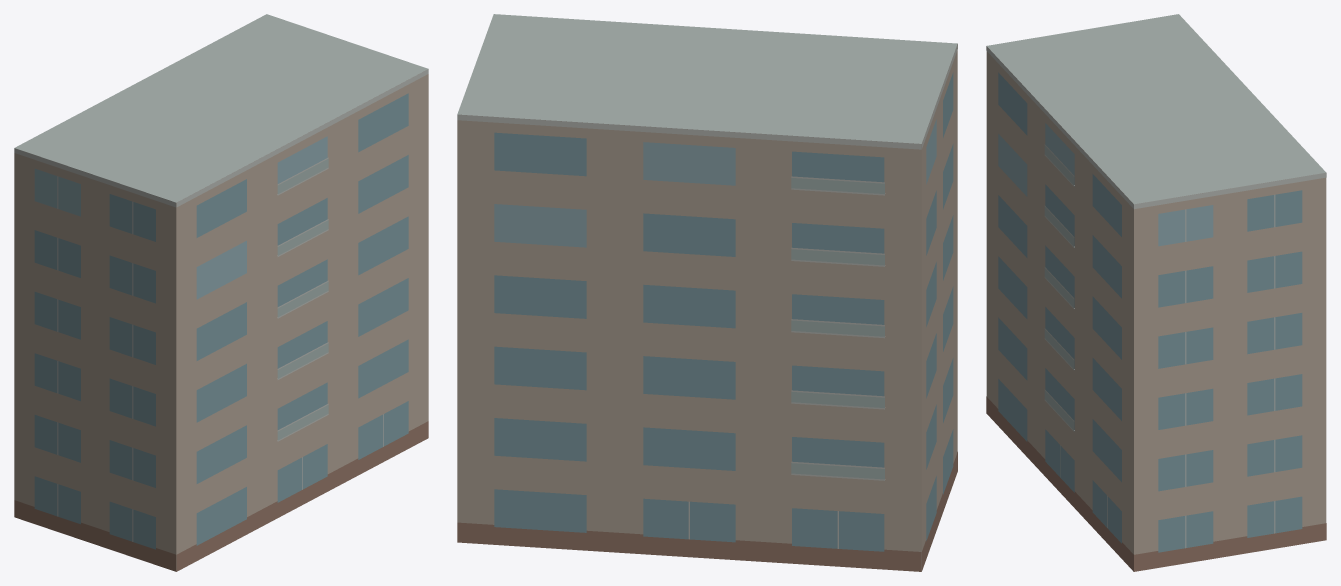
Rendered from survey-upis-32646693.glb.
3 renders of one model, left to right at view 1: azimuth 30°, elevation 25°; view 2: azimuth 150°, elevation 25°; view 3: azimuth 270°, elevation 25°, orthographic. The views are drawn at different scales.
Parts seen in each view (by area): view 1: survey-upis-32646693.tmp; view 2: survey-upis-32646693.tmp; view 3: survey-upis-32646693.tmp.
Part boxes in pixels (left/top/right/bottom): survey-upis-32646693.tmp: left=14, top=14, right=428, bottom=571; survey-upis-32646693.tmp: left=457, top=14, right=957, bottom=571; survey-upis-32646693.tmp: left=986, top=14, right=1326, bottom=571.
Bounding box in the file's own units: 20.33 × 18.3 × 15.35.
